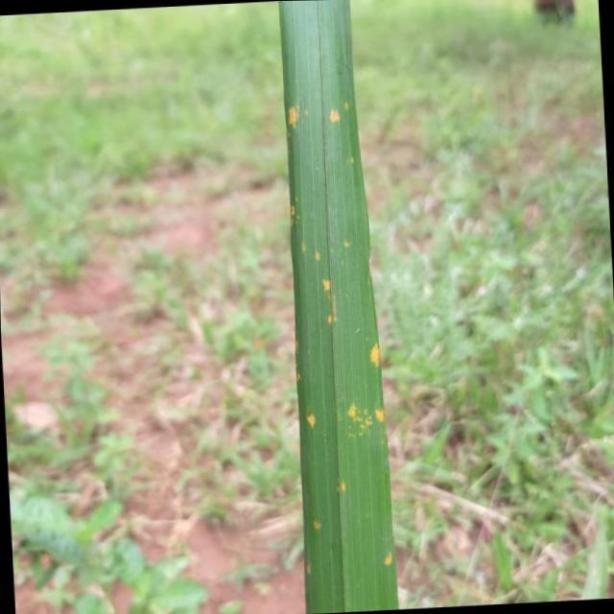Kalium: (276, 1, 399, 614)
